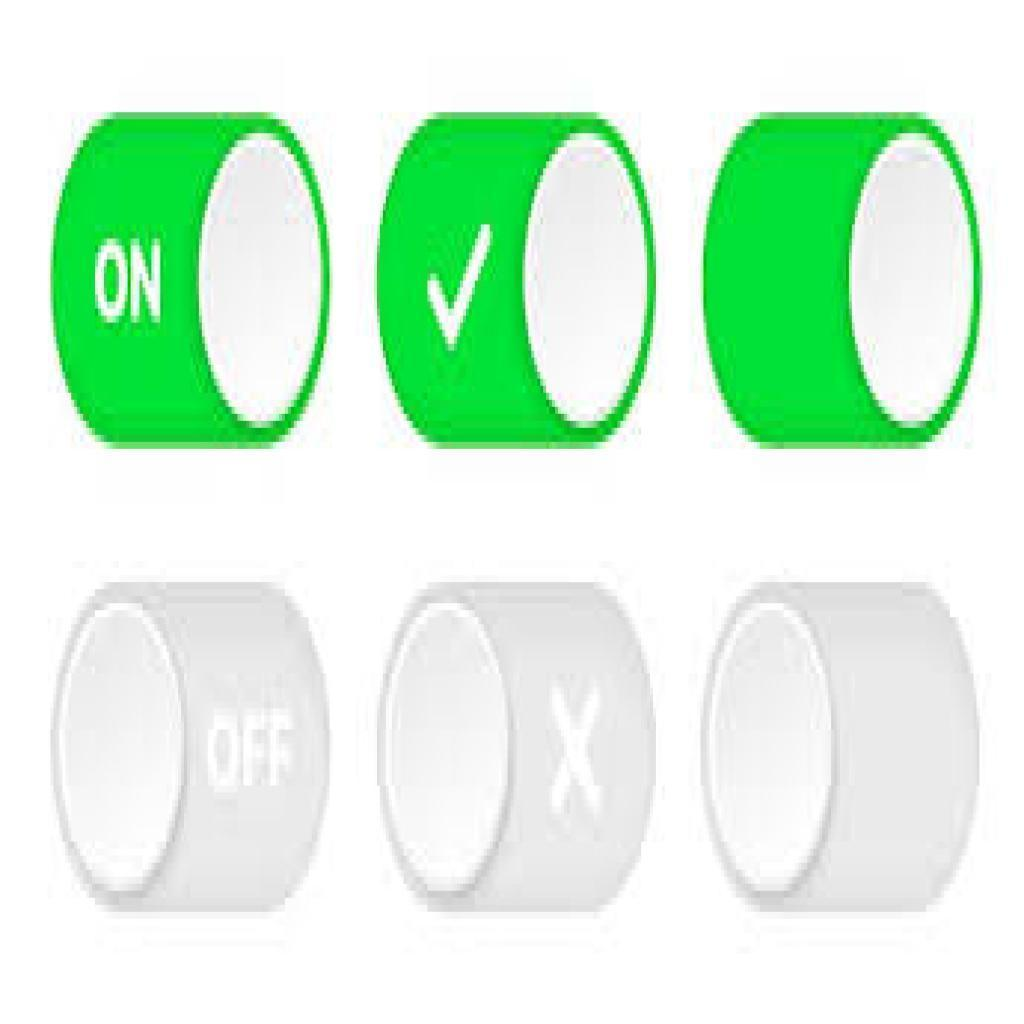switch: (374, 581, 660, 918), (703, 112, 986, 452), (377, 112, 659, 452), (697, 581, 983, 914), (50, 582, 334, 917), (52, 113, 333, 451)
